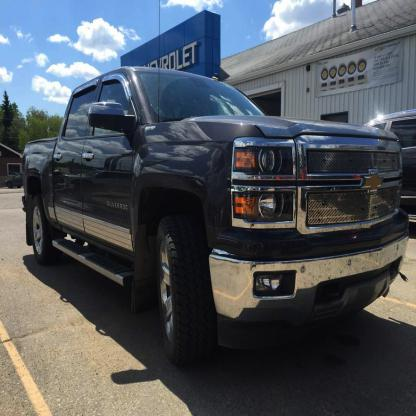Truck: (21, 0, 410, 367)
